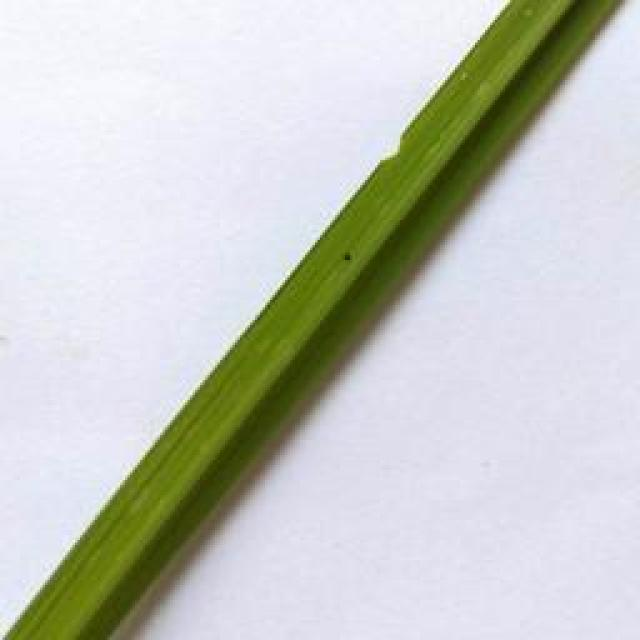Healthy-Plant: (0, 286, 395, 640), (414, 0, 620, 183)
